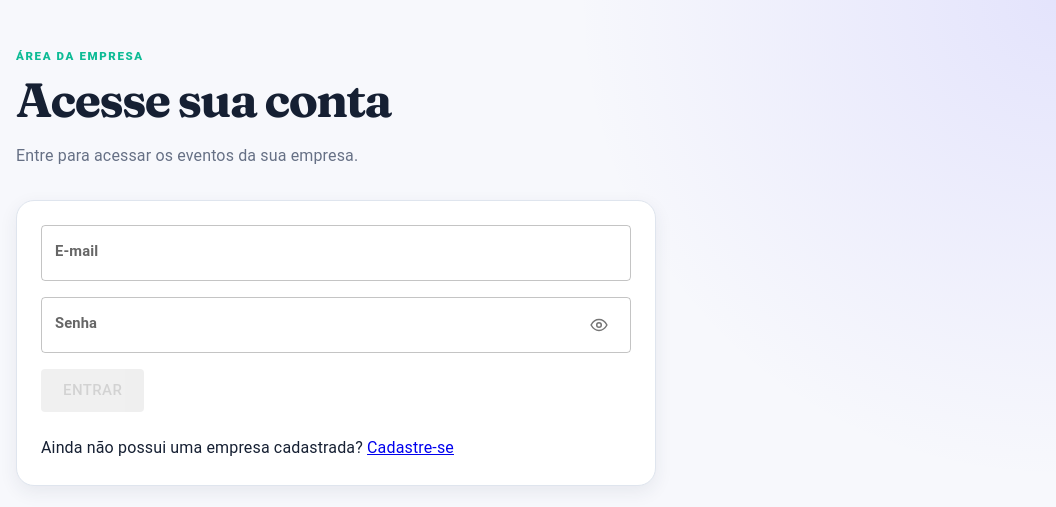
Test case: AuthenticationPage › permite mostrar e ocultar a senha
The width and height of the screenshot is (1056, 507).
Step 1. Click the button named "Mostrar senha" → (599, 326), box x1=581 y1=308 x2=617 y2=344
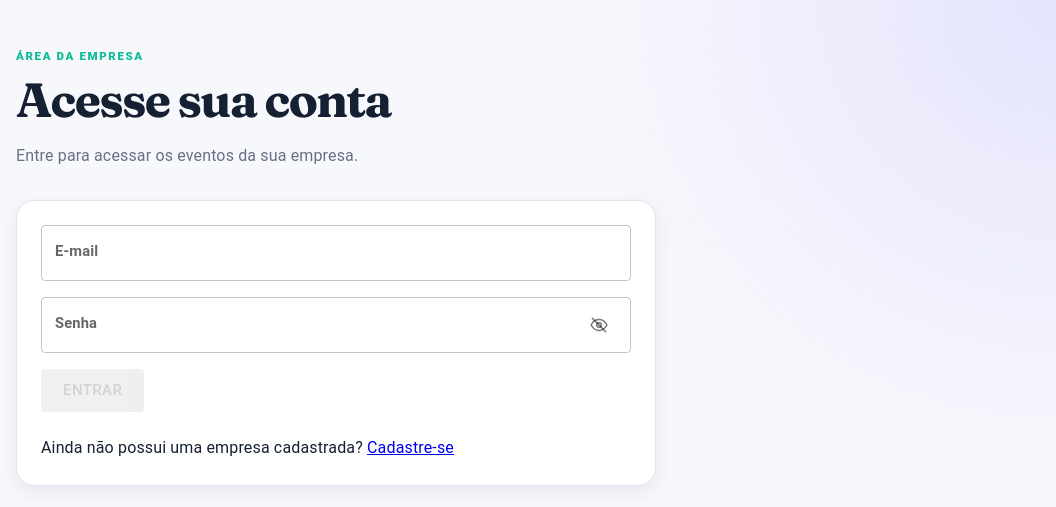
Expected: the button named "Ocultar senha" is shown, x1=581 y1=308 x2=617 y2=344
